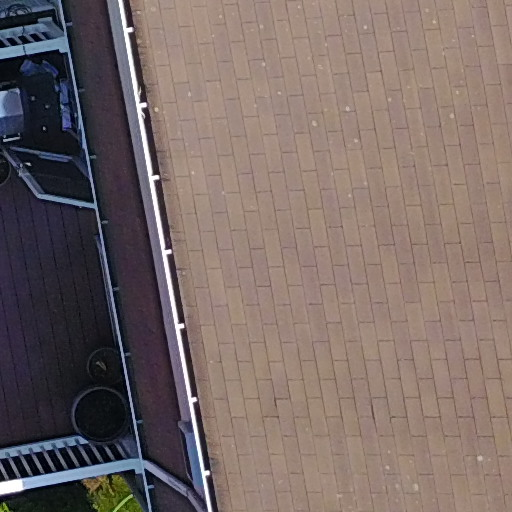flower pot: (48, 369, 134, 460), (71, 342, 137, 396)
